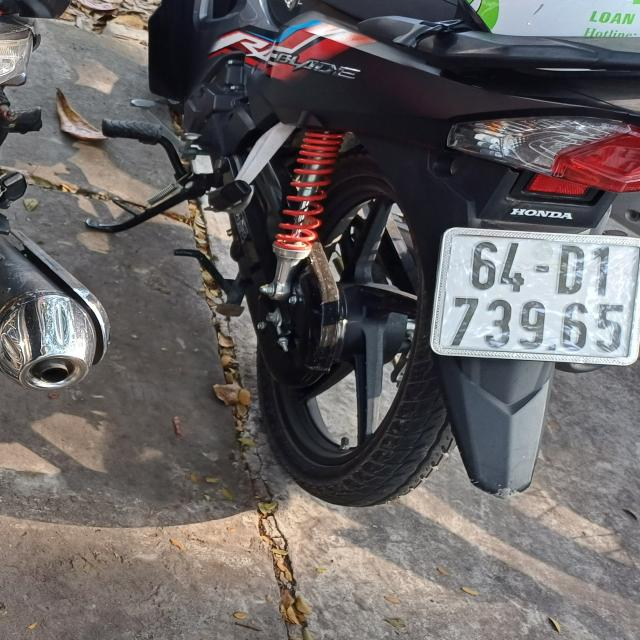1: (593, 245, 613, 296)
3: (487, 299, 512, 349)
4: (502, 242, 527, 292)
5: (595, 302, 623, 354)
6: (472, 240, 497, 291), (562, 301, 586, 352)
7: (450, 296, 479, 350)
9: (517, 300, 546, 350)
D: (557, 245, 587, 295)
